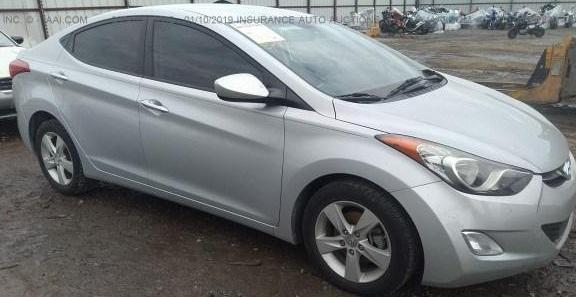Cars: (11, 6, 576, 296)
